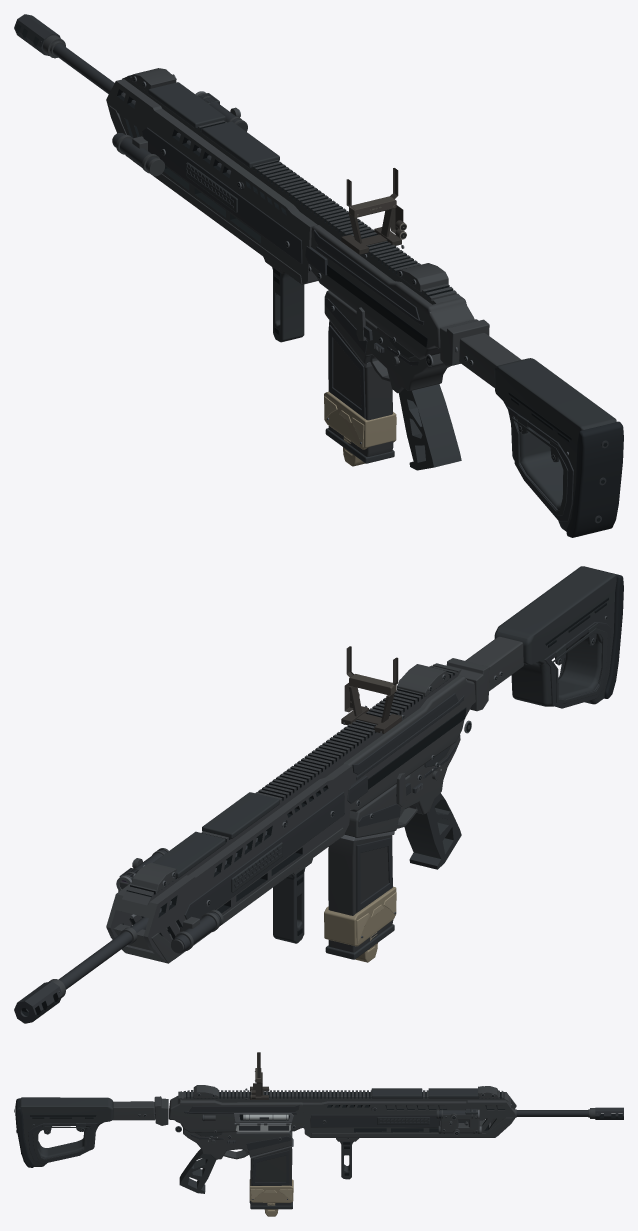
The picture shows the model from 3 angles, top to bottom: view 1: azimuth 30°, elevation 25°; view 2: azimuth 150°, elevation 25°; view 3: azimuth 270°, elevation 25°; orthographic projection. The views are drawn at different scales.
Parts seen in each view (by area): view 1: Handguard_body, Stock_moulded_shell, Top_rail, Upper_receiver, Butt_rubber, Pistol_skeleton, Lower_receiver, Handguard_mid_shoulder_1, Magazine_body, Foregrip.001, Magazine_tan_sleeve, Flush polymer rail cover (+12 smaller); view 2: Handguard_body, Stock_moulded_shell, Top_rail, Upper_receiver, Magazine_body, Handguard_mid_shoulder_1, Lower_receiver, Pistol_skeleton, Foregrip.001, Magazine_tan_sleeve, Handguard_lip, Flush polymer rail cover (+15 smaller); view 3: Handguard_body, Stock_moulded_shell, Top_rail, Upper_receiver, Lower_receiver, Handguard_mid_shoulder_-1, Magazine_body, Handguard_lip, Pistol_skeleton, Buffer_tube, Upper_bevel_panel_-1, Stock_inset_frame_-1 (+18 smaller).
Part boxes in pixels (bbox=[...]): Handguard_body: bbox=[106, 79, 325, 284]; Stock_moulded_shell: bbox=[494, 358, 616, 531]; Top_rail: bbox=[122, 75, 461, 304]; Upper_receiver: bbox=[310, 225, 474, 359]; Butt_rubber: bbox=[566, 421, 623, 537]; Pistol_skeleton: bbox=[399, 384, 461, 470]; Lower_receiver: bbox=[324, 290, 450, 393]; Handguard_mid_shoulder_1: bbox=[142, 127, 302, 263]; Magazine_body: bbox=[328, 320, 393, 456]; Foregrip.001: bbox=[272, 267, 304, 342]; Magazine_tan_sleeve: bbox=[324, 391, 396, 449]; Flush polymer rail cover: bbox=[202, 121, 279, 168]; Handguard_body: bbox=[106, 764, 351, 962]; Stock_moulded_shell: bbox=[494, 566, 616, 706]; Top_rail: bbox=[122, 663, 461, 905]; Upper_receiver: bbox=[344, 675, 475, 812]; Magazine_body: bbox=[328, 835, 393, 952]; Handguard_mid_shoulder_1: bbox=[184, 791, 344, 919]; Lower_receiver: bbox=[344, 735, 460, 837]; Pistol_skeleton: bbox=[404, 793, 461, 869]; Foregrip.001: bbox=[273, 868, 305, 943]; Magazine_tan_sleeve: bbox=[324, 886, 396, 946]; Handguard_lip: bbox=[113, 827, 344, 963]; Flush polymer rail cover: bbox=[202, 792, 279, 838]; Handguard_body: bbox=[302, 1092, 516, 1137]; Stock_moulded_shell: bbox=[19, 1097, 113, 1166]; Top_rail: bbox=[178, 1090, 508, 1102]; Upper_receiver: bbox=[169, 1096, 303, 1132]; Lower_receiver: bbox=[183, 1128, 292, 1159]; Handguard_mid_shoulder_-1: bbox=[310, 1114, 469, 1127]; Magazine_body: bbox=[249, 1147, 292, 1205]; Handguard_lip: bbox=[310, 1108, 513, 1137]; Pistol_skeleton: bbox=[179, 1149, 216, 1193]; Buffer_tube: bbox=[112, 1101, 155, 1120]; Upper_bevel_panel_-1: bbox=[189, 1104, 299, 1111]; Stock_inset_frame_-1: bbox=[28, 1123, 97, 1163].
Size of the model in its own units: 0.092 by 0.2871 by 1.02.
